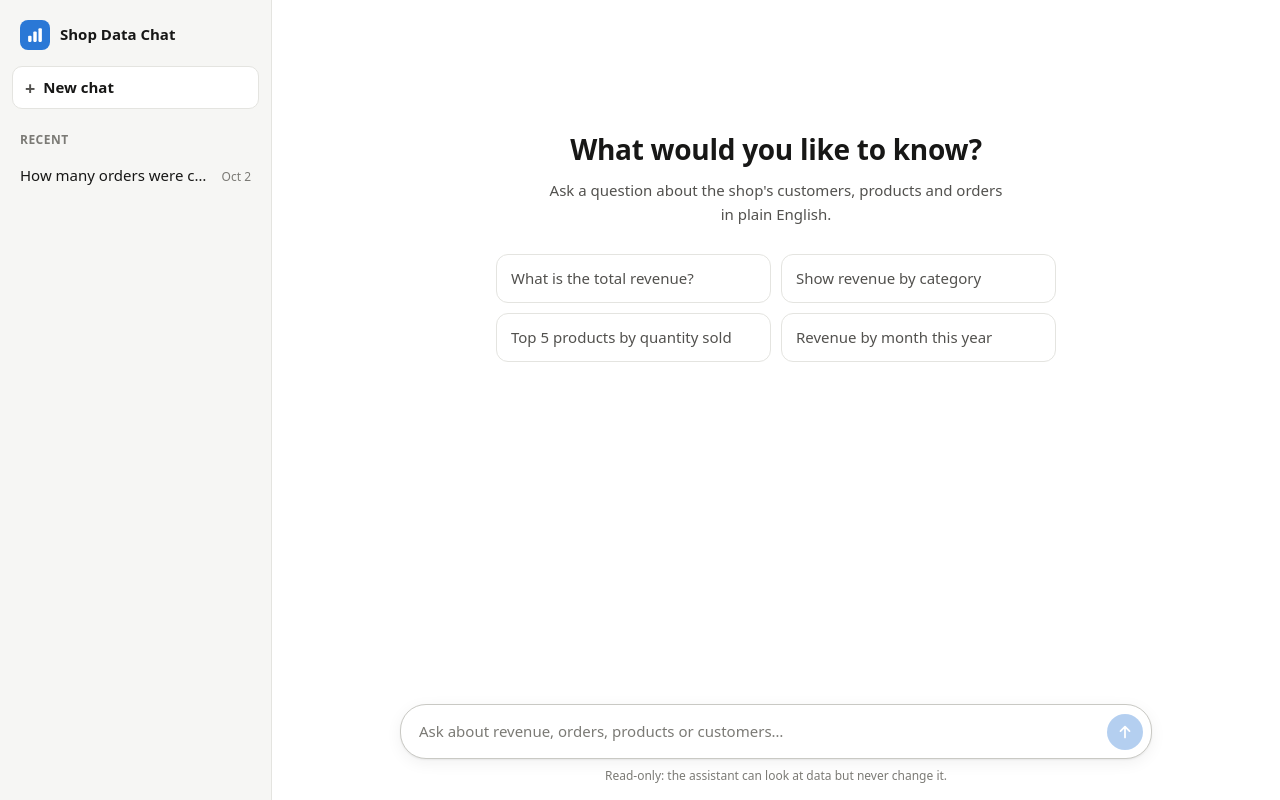
it: the chat page › reopens an old conversation with its saved text and SQL
The image size is (1280, 800).
Step 1. Click the button "How many orders were cancelled? Oct 2" → (136, 175), box [12,156,259,195]
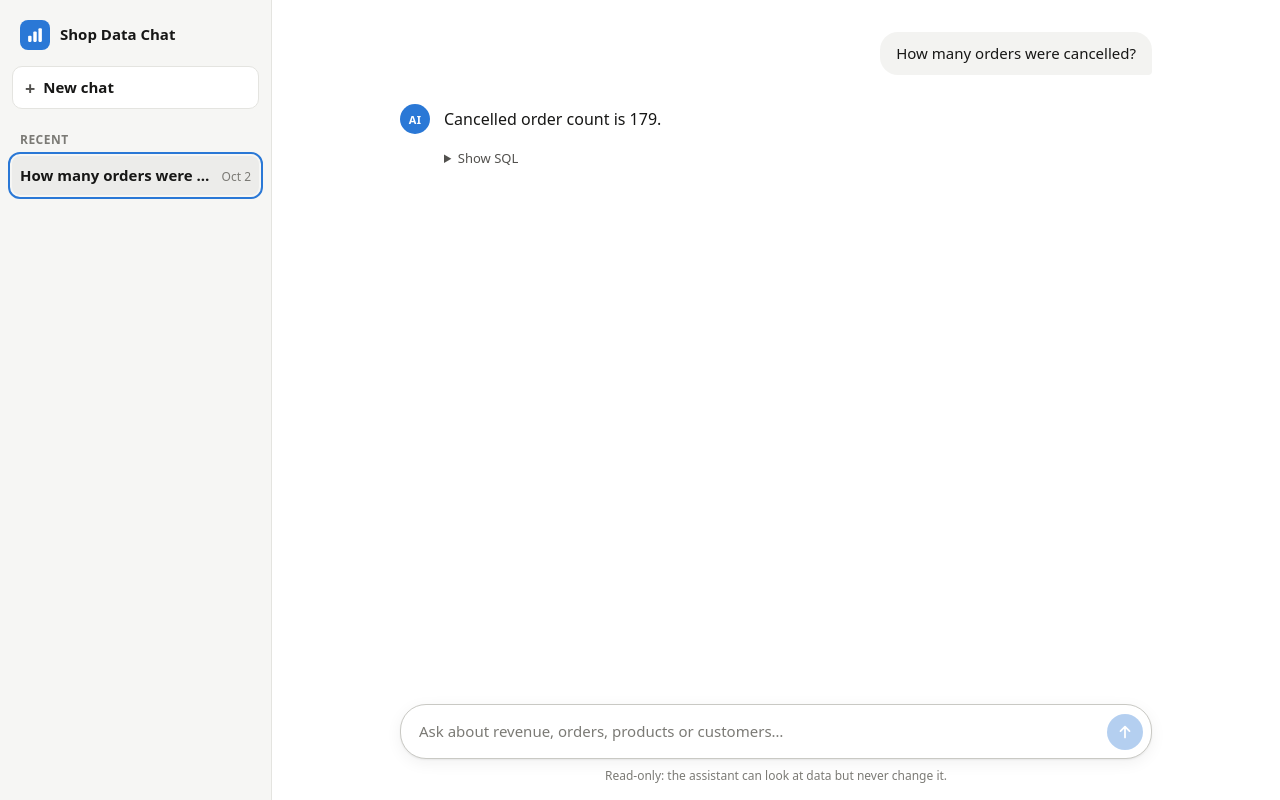
Expected: the text "Cancelled order count is 179." is shown, [444,108,661,130]
